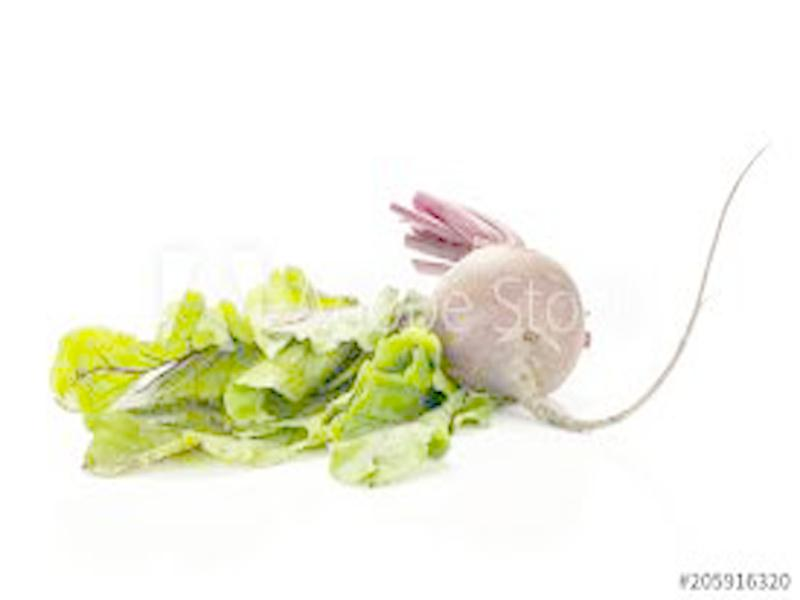Beet: (384, 141, 774, 433)
